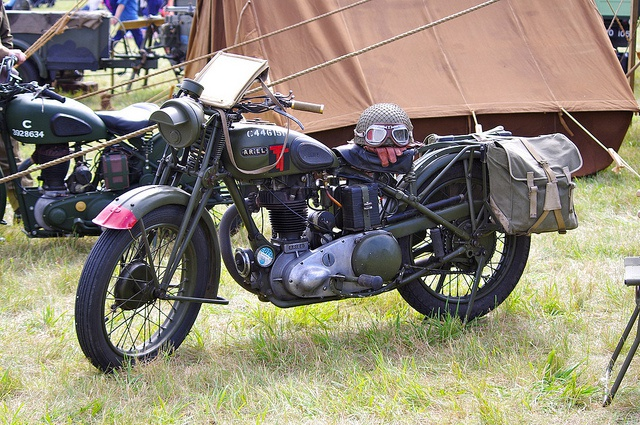non-vehicle: (73, 76, 531, 374), (0, 55, 257, 238)
